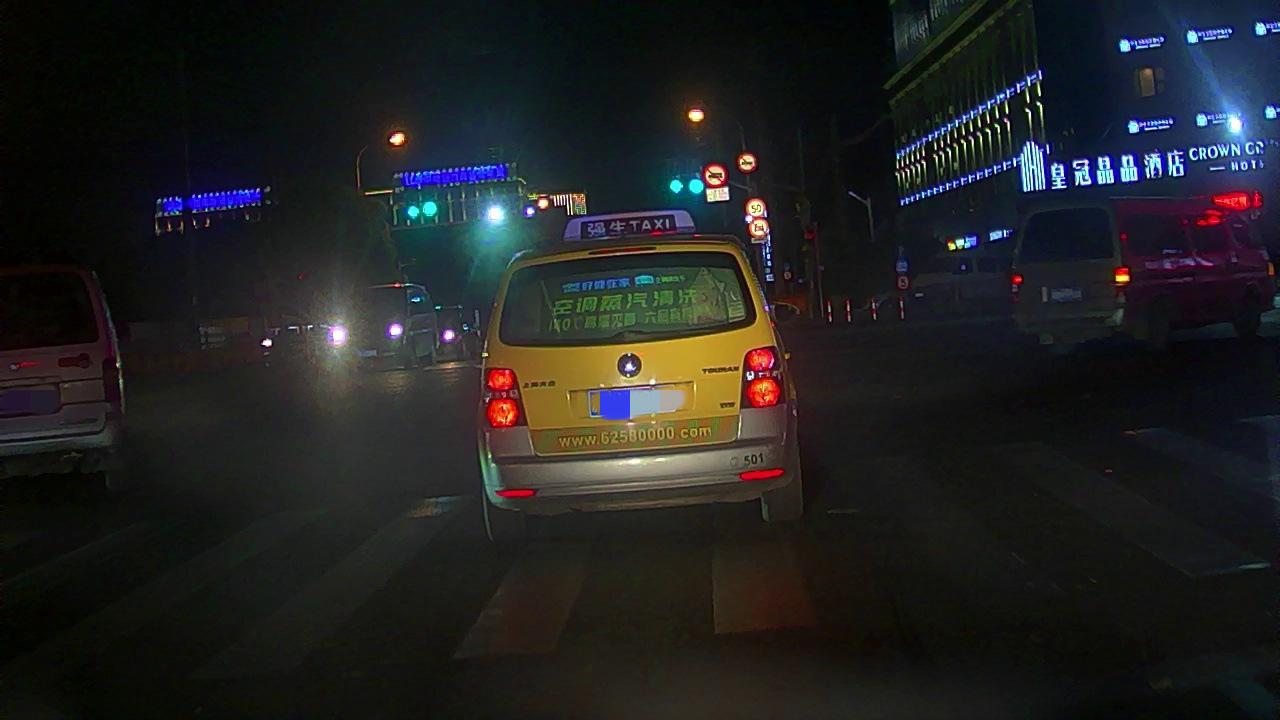traffic_light: (420, 185, 438, 220), (404, 188, 420, 219), (688, 173, 706, 197), (667, 174, 685, 196)
